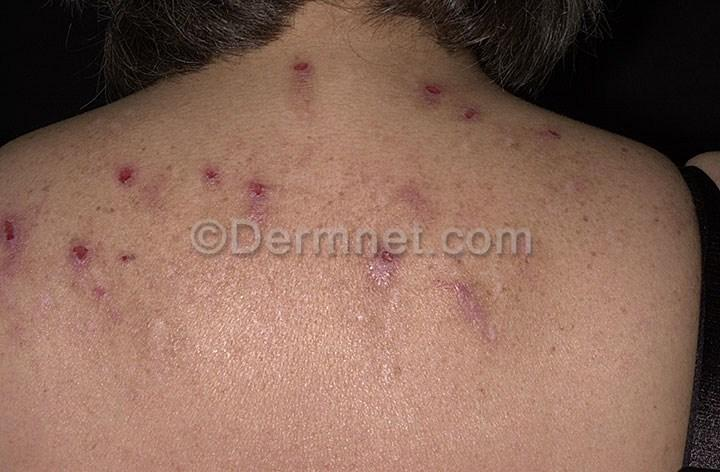Eczema: (430, 254, 509, 369), (0, 184, 61, 283), (411, 66, 488, 144), (166, 138, 239, 220), (345, 236, 417, 314), (550, 148, 616, 229), (62, 238, 146, 300), (227, 161, 298, 233), (88, 138, 152, 209), (491, 214, 552, 288), (269, 44, 334, 111), (384, 166, 443, 233), (520, 106, 576, 165), (369, 346, 413, 395)
